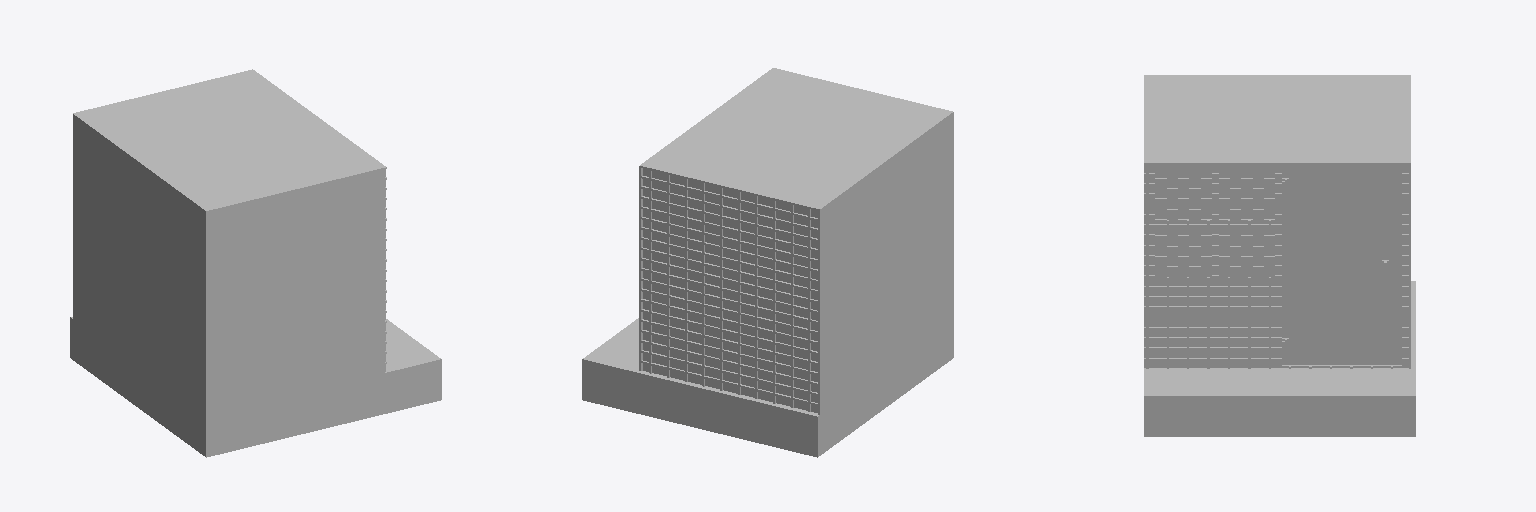
The model's file is 3d fon 1.1-23.obj.
3 renders of one model, left to right at view 1: azimuth 30°, elevation 25°; view 2: azimuth 150°, elevation 25°; view 3: azimuth 270°, elevation 25°, orthographic.
Visible parts, largest first — view 1: object 1; view 2: object 1; view 3: object 1.
Part boxes in pixels (x1,y1,x2,y2): object 1: (70, 69, 441, 457); object 1: (582, 68, 953, 457); object 1: (1144, 75, 1415, 436).
Bounding box in the file's own units: 12 × 12 × 12.